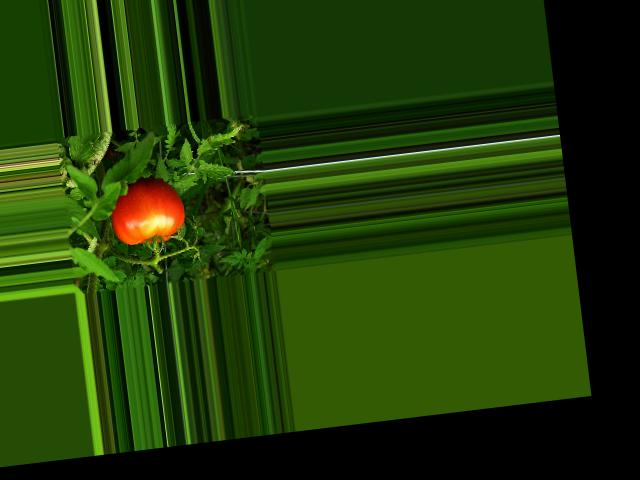tomato: (107, 174, 187, 248)
